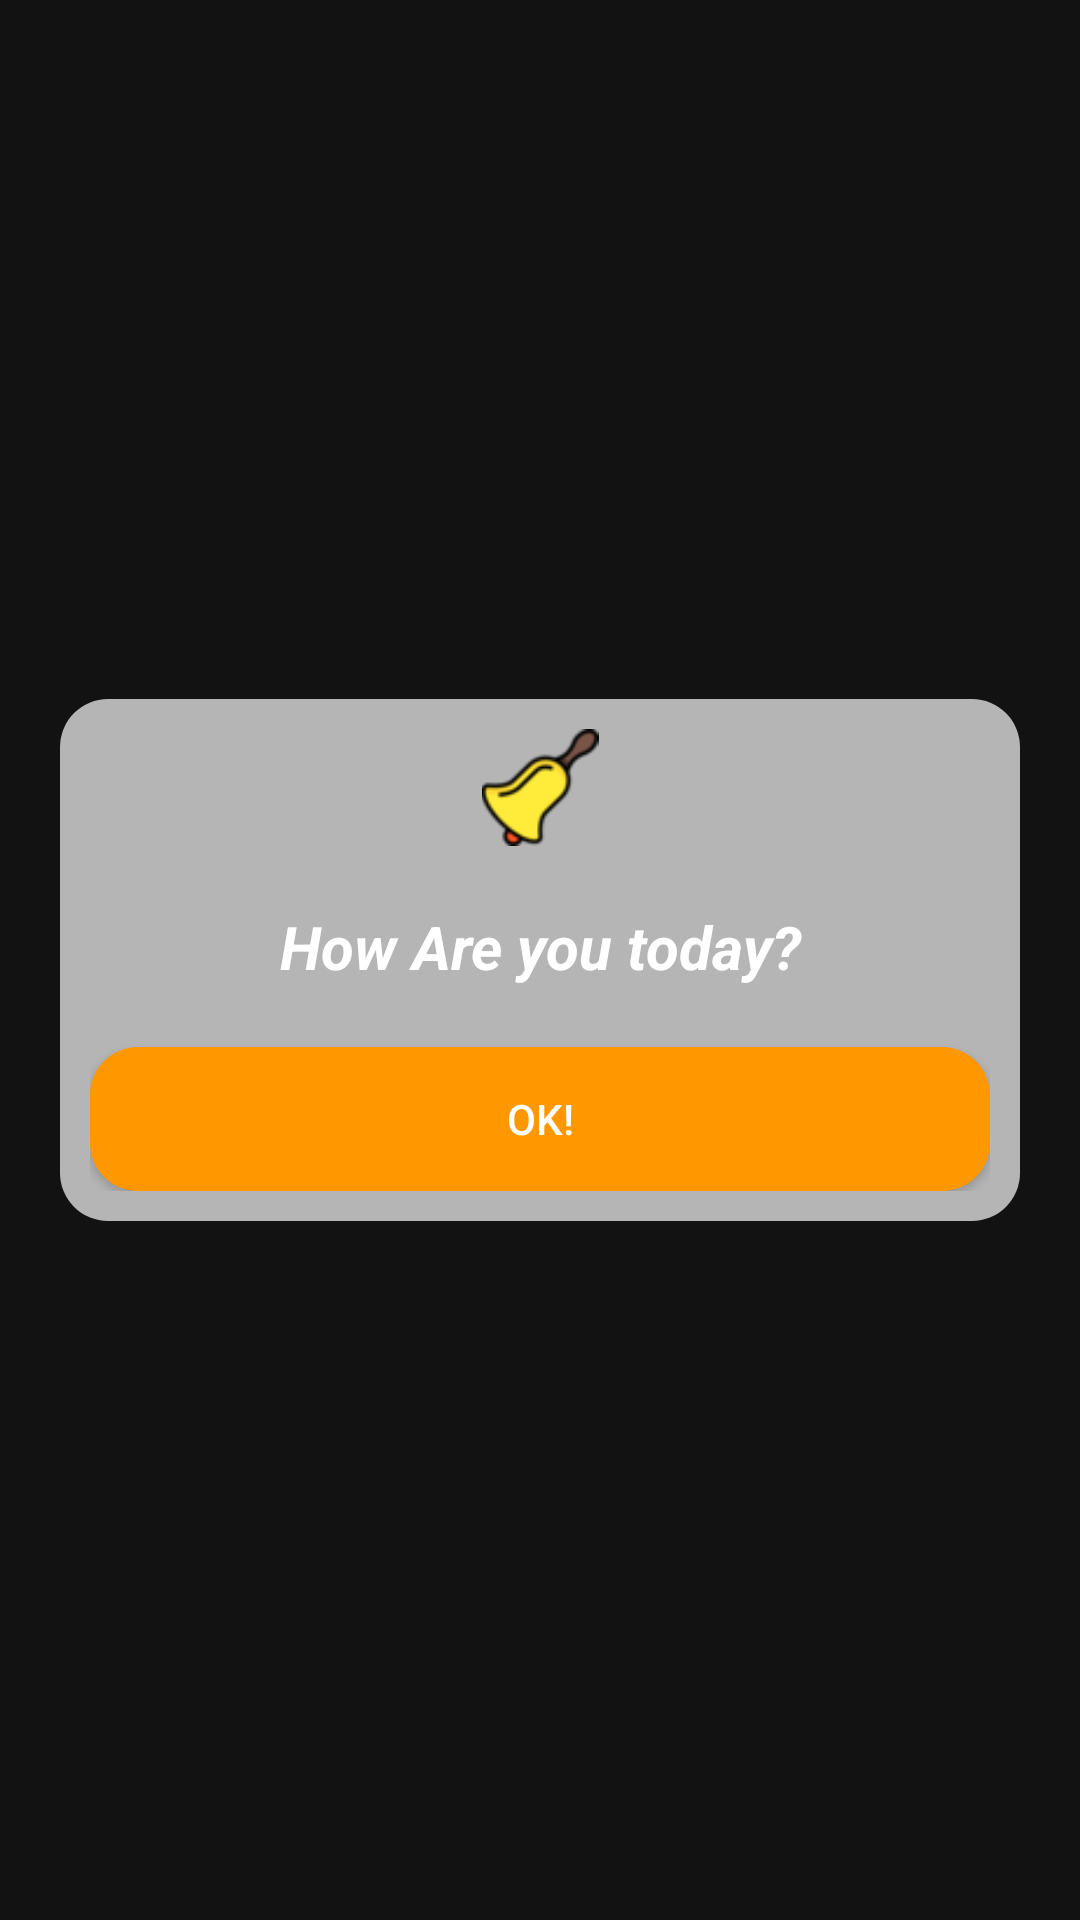

Locate icon controls on the screen. Image size 1080x1920, boxes as (x1=x1, y1=y1, x2=x2, y2=y2).
bell: (x1=482, y1=729, x2=599, y2=846)
